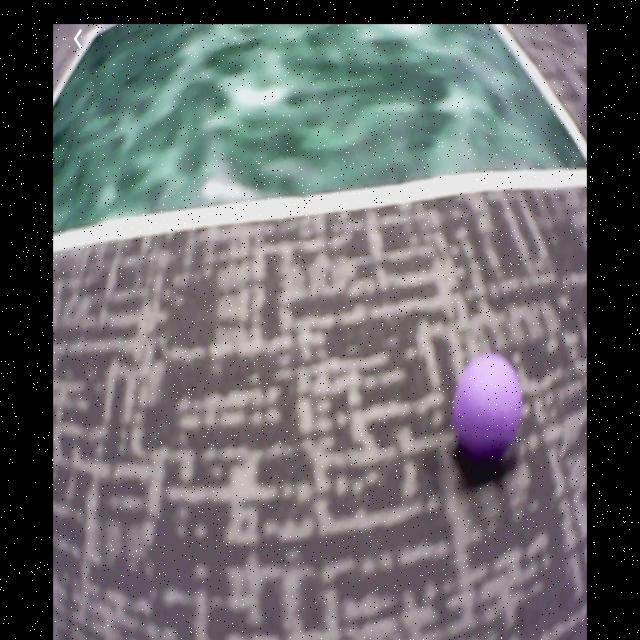ball: (453, 354, 523, 457)
